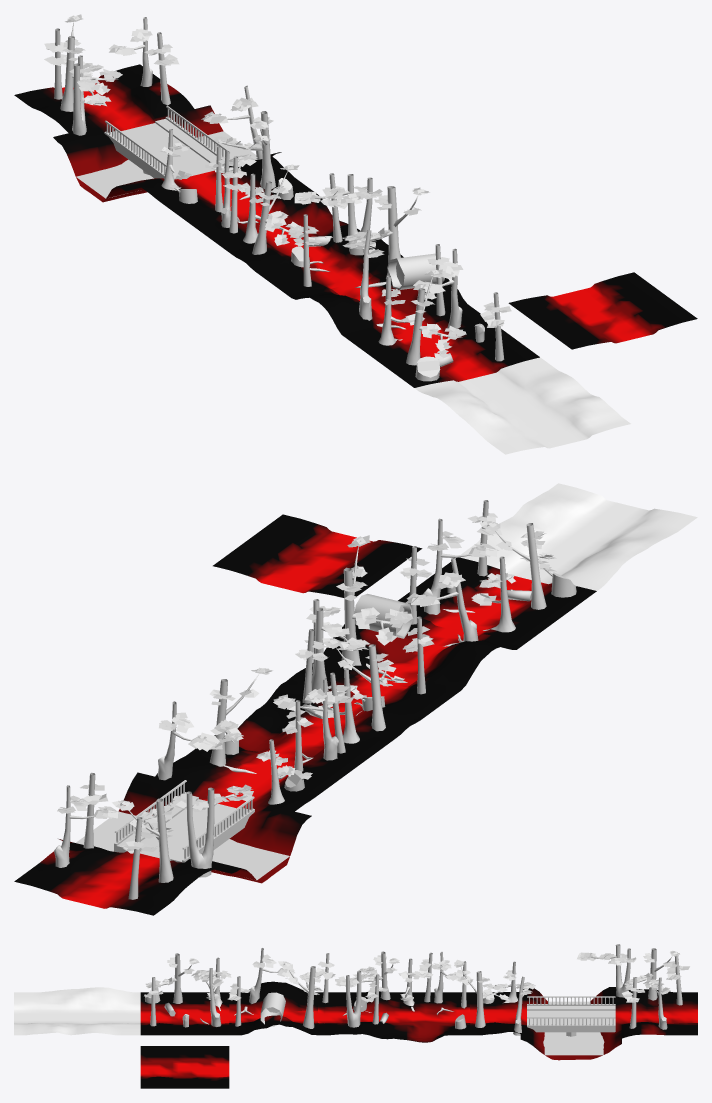
File: forest_pack.fbx
3 views of the same model, one above another, from view 1: azimuth 30°, elevation 25°; view 2: azimuth 150°, elevation 25°; view 3: azimuth 270°, elevation 25° (orthographic). The views are drawn at different scales.
Visible parts, largest first — view 1: Road 5, Road 4, Road 3, Road 1.001, Road 1, Road 2, Road Bridge, River, Wood 5, Wood 2, Wood 2.003, Wood 2.001 (+18 smaller); view 2: Road 5, Road 4, Road 3, Road 1.001, Road 2, Road 1, Road Bridge, River, Wood 2.001, Wood 5.001, Wood 2.002, Wood 2.003 (+20 smaller); view 3: Road 5, Road 4, Road 3, Road 1.001, Road 1, Road Bridge, Road 2, River, Wood 5, Wood 2.001, Wood 5.001, Wood 2.002 (+20 smaller).
Part boxes in pixels (bbox=[...]): Road 5: bbox=[14, 64, 303, 214]; Road 4: bbox=[414, 357, 630, 454]; Road 3: bbox=[178, 184, 403, 294]; Road 1.001: bbox=[508, 272, 697, 349]; Road 1: bbox=[351, 310, 539, 387]; Road 2: bbox=[287, 271, 476, 341]; Road Bridge: bbox=[104, 105, 230, 179]; River: bbox=[76, 131, 256, 198]; Wood 5: bbox=[294, 174, 382, 255]; Wood 2: bbox=[406, 269, 466, 365]; Wood 2.003: bbox=[252, 164, 303, 254]; Wood 2.001: bbox=[342, 186, 429, 278]; Road 5: bbox=[14, 749, 334, 915]; Road 4: bbox=[459, 483, 697, 590]; Road 3: bbox=[195, 662, 455, 782]; Road 1.001: bbox=[213, 514, 422, 597]; Road 2: bbox=[323, 618, 526, 694]; Road 1: bbox=[398, 557, 596, 642]; Road Bridge: bbox=[114, 780, 254, 862]; River: bbox=[76, 811, 289, 880]; Wood 2.001: bbox=[336, 535, 413, 665]; Wood 5.001: bbox=[170, 784, 253, 877]; Wood 2.002: bbox=[209, 667, 272, 766]; Wood 2.003: bbox=[322, 638, 407, 731]; Road 5: bbox=[470, 987, 697, 1060]; Road 4: bbox=[14, 987, 140, 1035]; Road 3: bbox=[318, 991, 469, 1042]; Road 1.001: bbox=[140, 1046, 229, 1088]; Road 1: bbox=[140, 992, 229, 1035]; Road Bridge: bbox=[527, 996, 615, 1036]; Road 2: bbox=[229, 981, 317, 1035]; River: bbox=[543, 1001, 604, 1055]; Wood 5: bbox=[335, 966, 377, 1027]; Wood 2.001: bbox=[278, 961, 322, 1028]; Wood 5.001: bbox=[577, 944, 636, 997]; Wood 2.002: bbox=[454, 959, 509, 1027].
Bounding box in the file's own units: 1900 × 769 × 5400.
